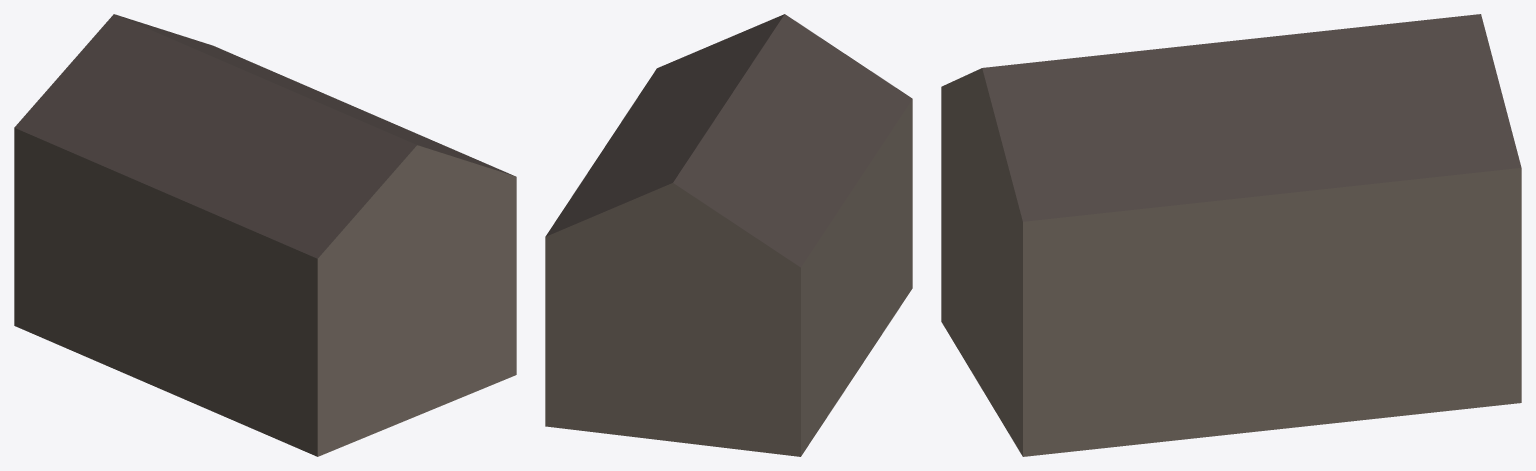
3 views of the same model, side by side, from view 1: azimuth 30°, elevation 25°; view 2: azimuth 150°, elevation 25°; view 3: azimuth 270°, elevation 25° (orthographic). The views are drawn at different scales.
Visible parts, largest first — view 1: HP-w859488808; view 2: HP-w859488808; view 3: HP-w859488808.
Boxes of the visible parts, x1=… form: HP-w859488808: x1=14, y1=14, x2=516, y2=456; HP-w859488808: x1=545, y1=14, x2=912, y2=456; HP-w859488808: x1=941, y1=14, x2=1521, y2=456.
Size of the model in its own units: 10.35 by 8.2 by 13.42.
